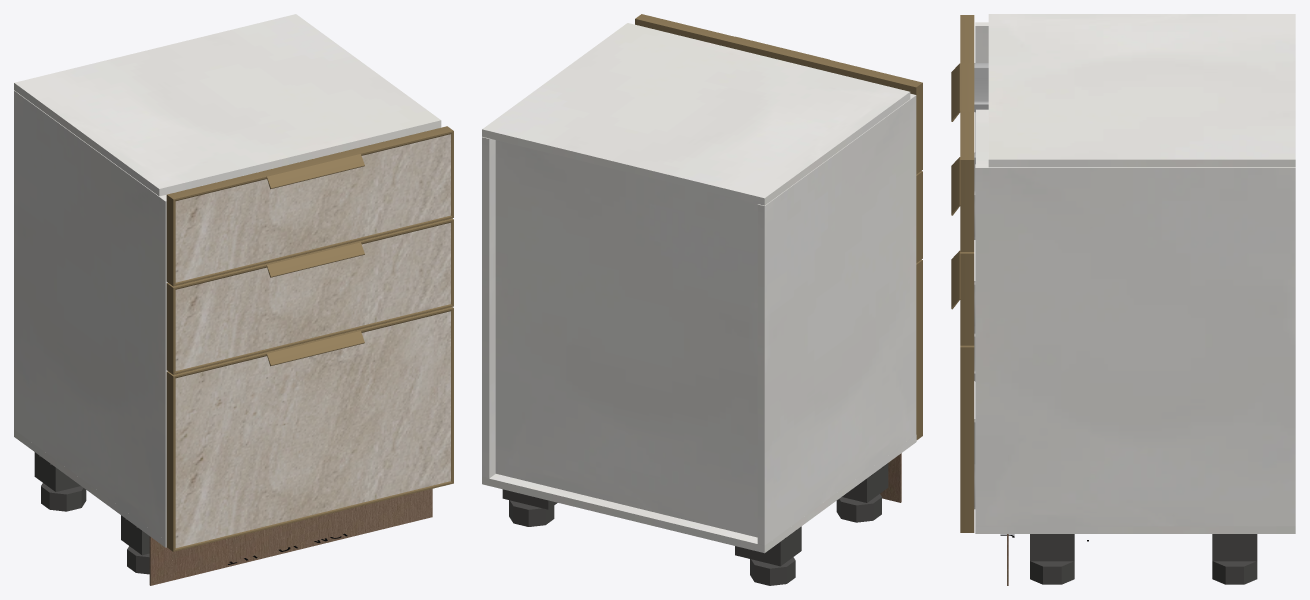
Rendered from BC-DW-TTS-ST-2LB-1HB-XXX-600-720-560-15.glb.
3 views of the same model, side by side, from view 1: azimuth 30°, elevation 25°; view 2: azimuth 150°, elevation 25°; view 3: azimuth 270°, elevation 25° (orthographic). The views are drawn at different scales.
Visible parts, largest first — view 1: TP_node_6, Object_node_67, TP_node_8, Object_node_69, Object_node_71, Object_node_86, ExtrSplGeo_node_0, Extrusion_node_4, ExtrSplGeo, ExtrSplGeo_node, TP_node_5, Extrusion_node_10 (+10 smaller); view 2: TP, TP_node_6, TP_node_8, TP_node_5, TP_node_7, ExtrSplGeo_node_0, Extrusion_node_4, Extrusion_node_14, Extrusion_node_15, Plate, Foot, Foot_node_0 (+5 smaller); view 3: TP_node_7, TP_node_8, Extrusion_node_2, TP_node_5, Extrusion_node_9, Extrusion_node_16, Plate_node, Plate_node_1, ExtrSplGeo_node_0, Foot_node, Foot_node_1, Extrusion_node_14 (+6 smaller).
Boxes of the visible parts, left/top/right/bottom form: TP_node_6: left=14, top=90, right=167, bottom=540; Object_node_67: left=175, top=311, right=450, bottom=547; TP_node_8: left=14, top=14, right=441, bottom=196; Object_node_69: left=175, top=222, right=450, bottom=370; Object_node_71: left=175, top=134, right=450, bottom=282; Object_node_86: left=149, top=489, right=432, bottom=585; ExtrSplGeo_node_0: left=260, top=149, right=364, bottom=189; Extrusion_node_4: left=166, top=372, right=175, bottom=551; ExtrSplGeo: left=265, top=329, right=364, bottom=366; ExtrSplGeo_node: left=265, top=241, right=364, bottom=277; TP_node_5: left=14, top=429, right=166, bottom=547; Extrusion_node_10: left=173, top=304, right=453, bottom=374; TP: left=495, top=140, right=757, bottom=537; TP_node_6: left=757, top=93, right=916, bottom=545; TP_node_8: left=482, top=23, right=910, bottom=205; TP_node_5: left=482, top=435, right=916, bottom=553; TP_node_7: left=482, top=137, right=495, bottom=478; ExtrSplGeo_node_0: left=728, top=36, right=829, bottom=70; Extrusion_node_4: left=916, top=260, right=922, bottom=439; Extrusion_node_14: left=635, top=14, right=734, bottom=47; Extrusion_node_15: left=822, top=60, right=922, bottom=91; Plate: left=735, top=526, right=801, bottom=566; Foot: left=750, top=557, right=795, bottom=585; Foot_node_0: left=836, top=494, right=881, bottom=522; TP_node_7: left=975, top=164, right=1295, bottom=526; TP_node_8: left=988, top=14, right=1295, bottom=167; Extrusion_node_2: left=960, top=347, right=974, bottom=532; TP_node_5: left=975, top=526, right=1295, bottom=533; Extrusion_node_9: left=960, top=253, right=974, bottom=345; Extrusion_node_16: left=960, top=160, right=974, bottom=251; Plate_node: left=1212, top=534, right=1257, bottom=561; Plate_node_1: left=1030, top=534, right=1074, bottom=561; ExtrSplGeo_node_0: left=951, top=63, right=974, bottom=121; Foot_node: left=1212, top=561, right=1257, bottom=584; Foot_node_1: left=1030, top=561, right=1074, bottom=584; Extrusion_node_14: left=960, top=111, right=974, bottom=159.
Size of what is drawn, in the model's own units: 0.6 by 0.82 by 0.6.
Materials: 7 (3 with a texture image).
